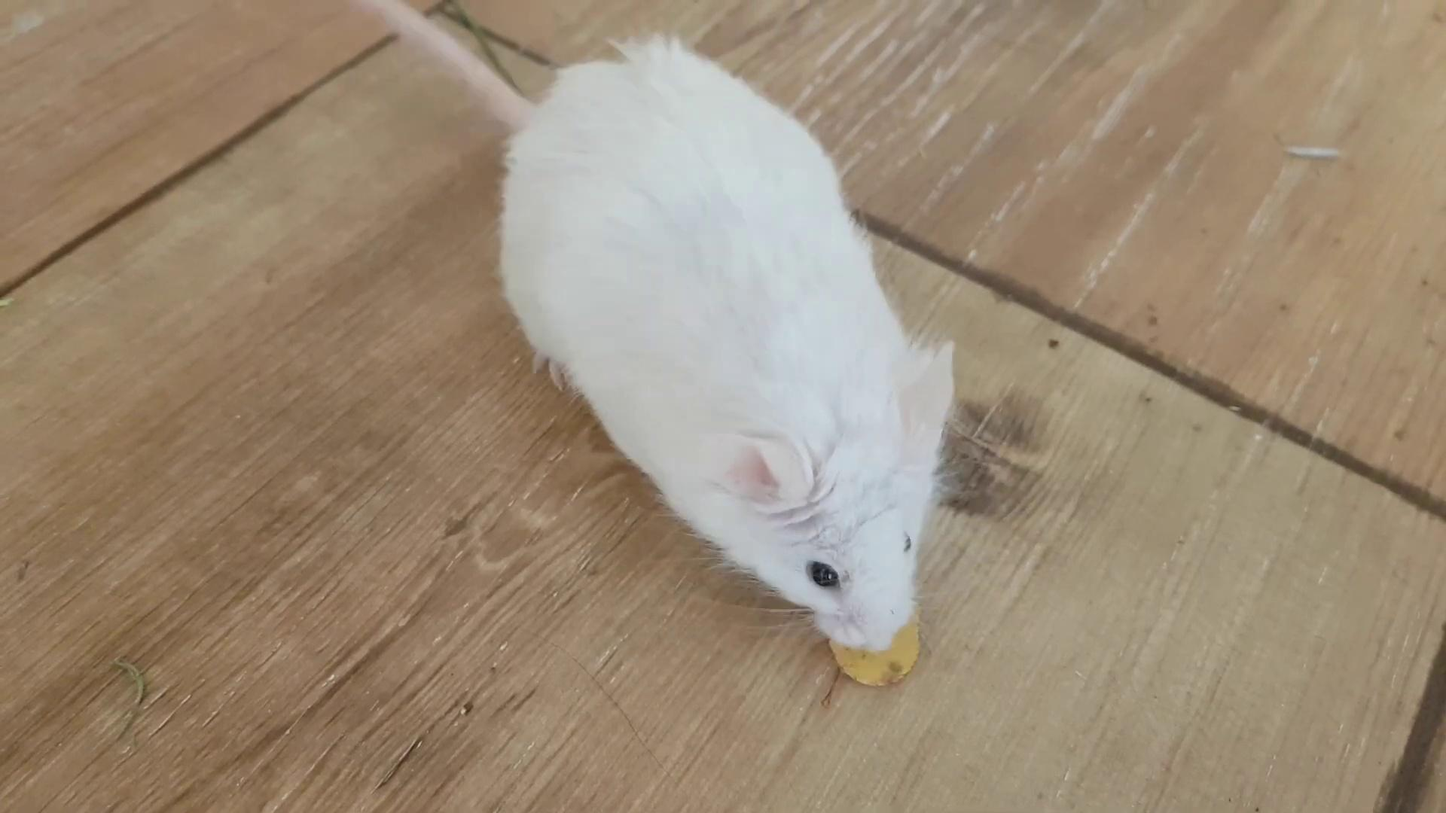rat: (496, 32, 957, 655)
